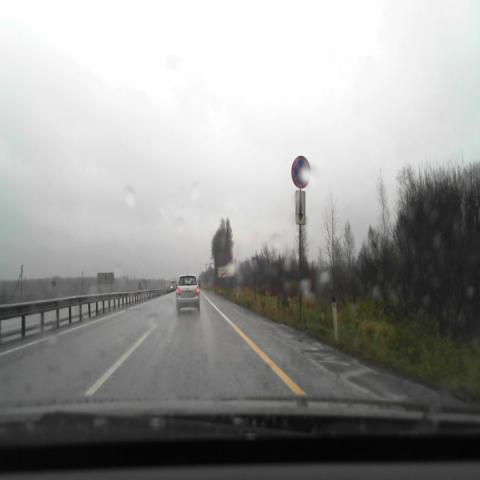8_2_3: (295, 191, 306, 224)
